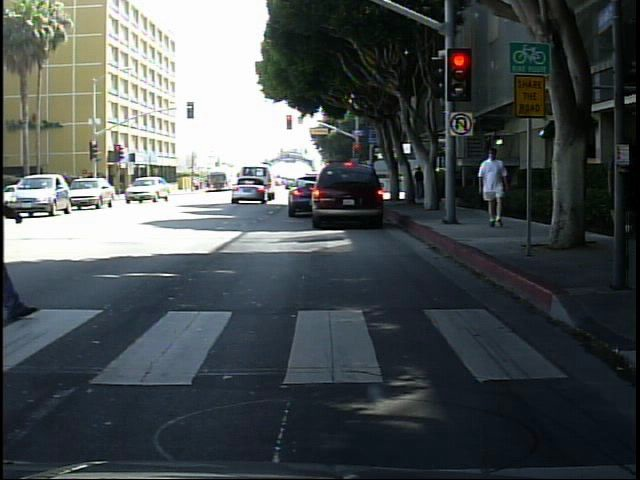person: (473, 145, 512, 230)
